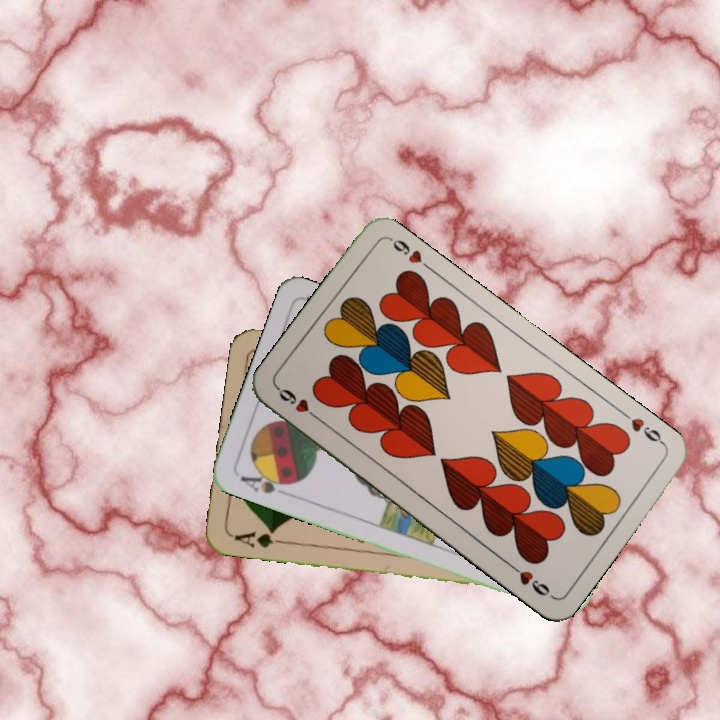GA: (230, 525, 288, 550)
H9: (273, 383, 324, 424), (617, 407, 668, 448)
SA: (235, 466, 296, 499)
